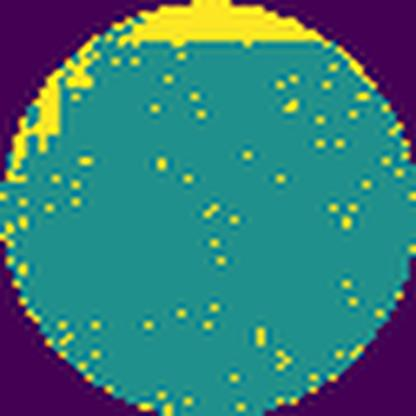Edge-Loc: (0, 0, 397, 176)
